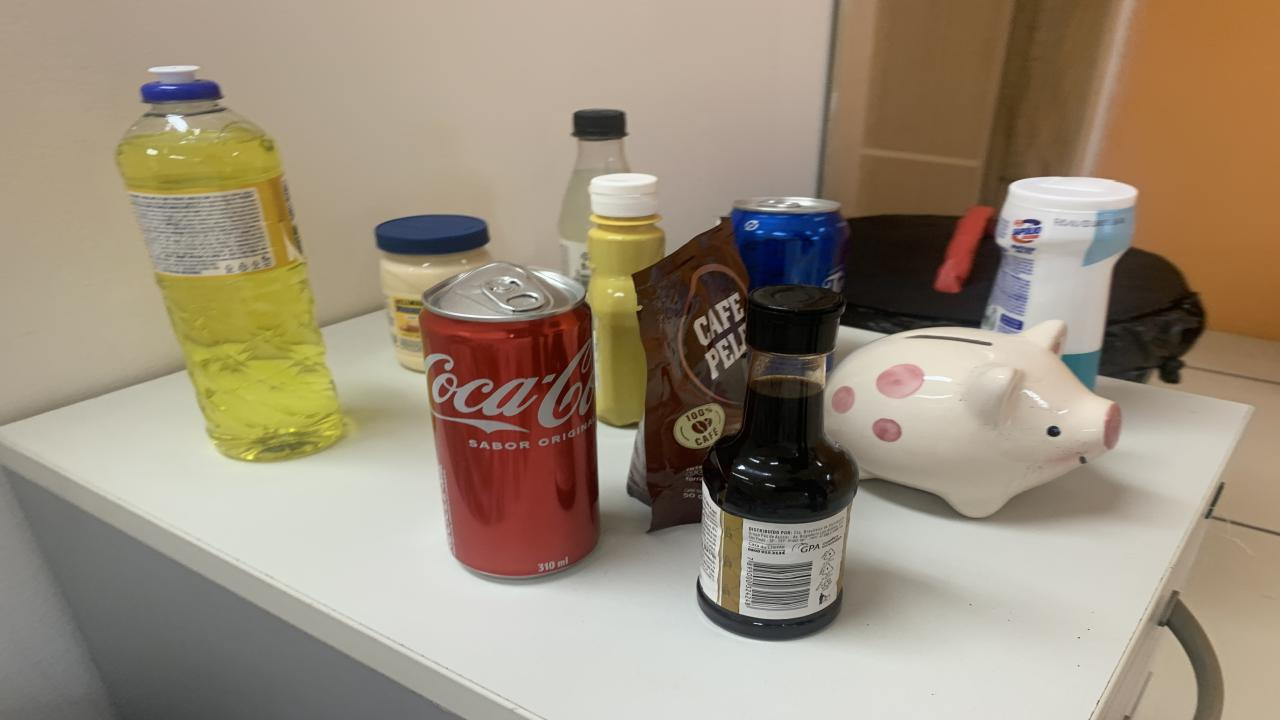Cleaner-Cleanup_Items: (980, 176, 1138, 388)
Coffee-Pantry_Items: (628, 219, 750, 531)
Coke-Drinks: (420, 262, 600, 578)
Detergent-Cleanup_Items: (115, 68, 342, 461)
English_Sauce-Pantry_Items: (698, 285, 858, 639)
Mayonnaise-Pantry_Items: (375, 214, 492, 371)
Mustard-Pantry_Items: (588, 172, 665, 426)
Pig_Safe-Miscellaneous: (825, 321, 1122, 518)
Soda-Drinks: (558, 109, 630, 285)
Tonic-Drinks: (730, 197, 850, 292)
